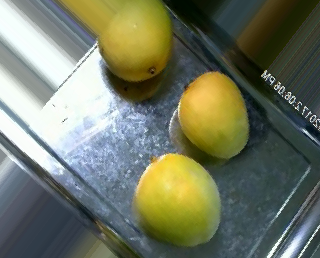Mango: (135, 154, 223, 245), (176, 72, 252, 157), (99, 0, 172, 79)
